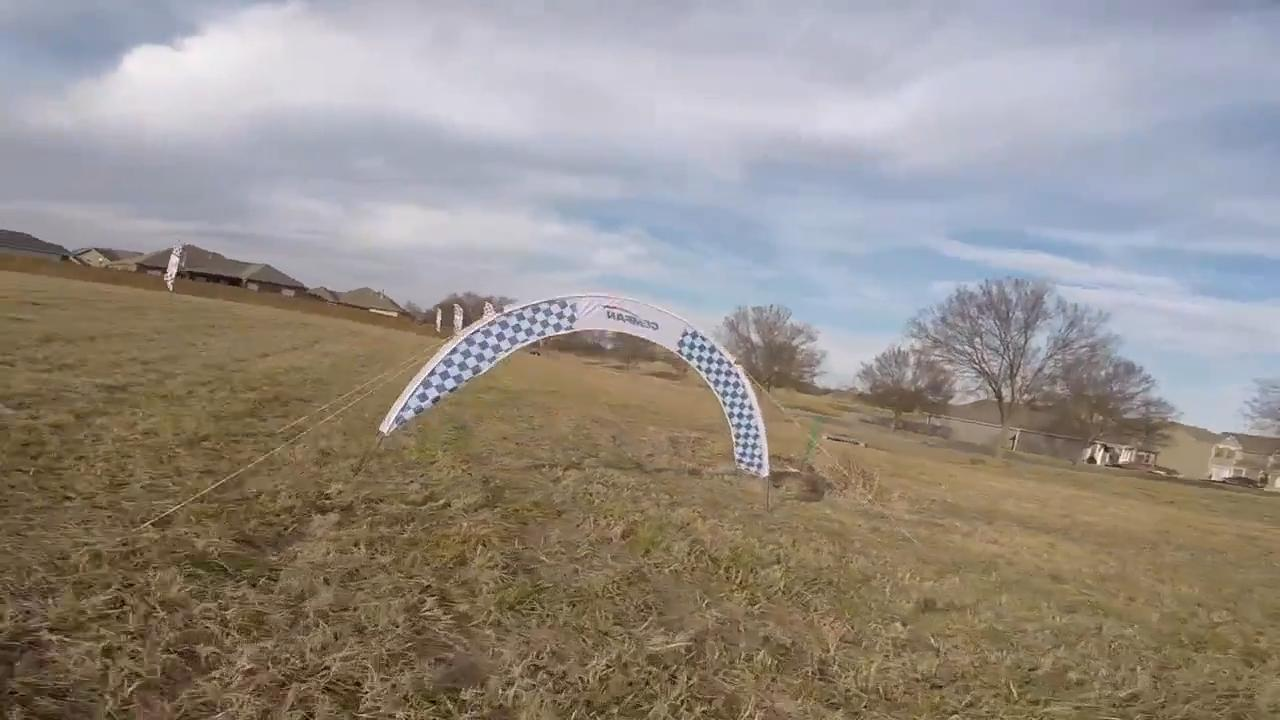gate: (376, 291, 769, 485)
